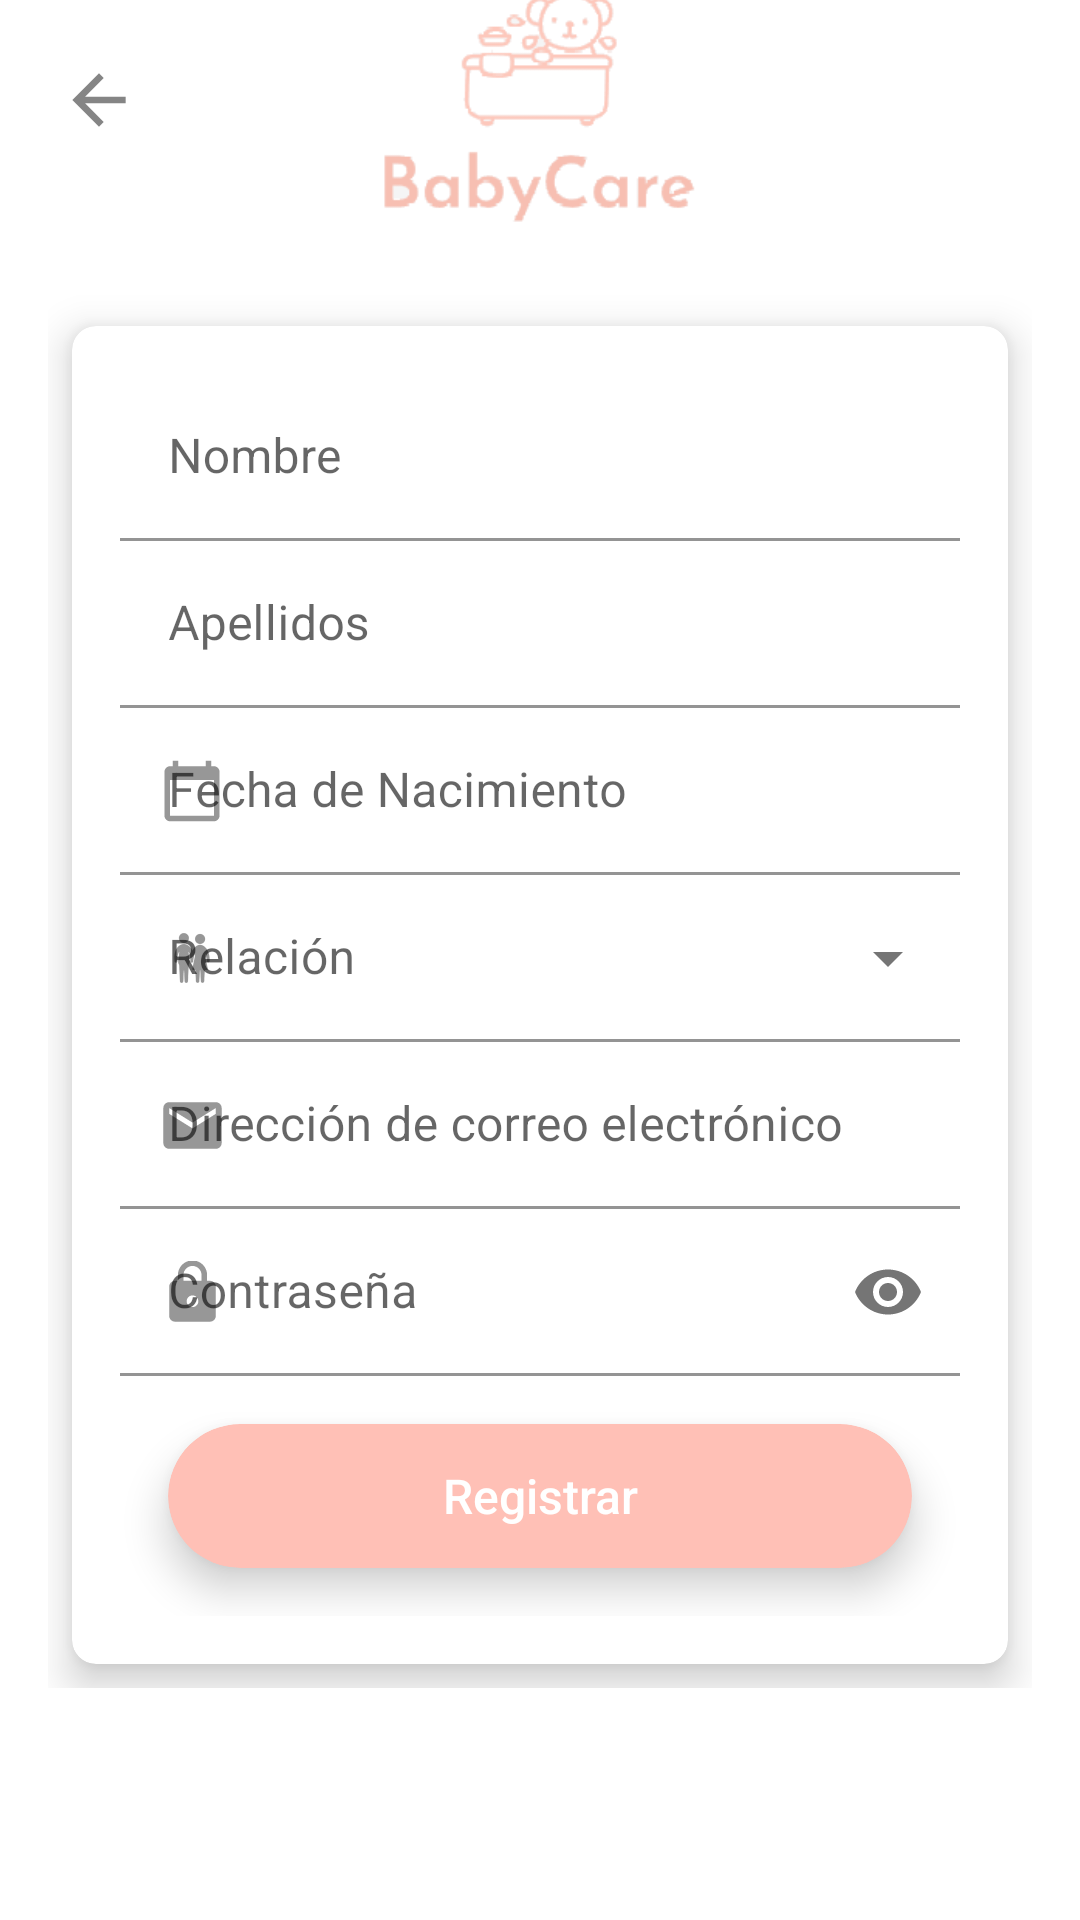

Point at icon controls on the screen. Image size 1080px×1920px, points as (x=x, y=y).
back: (x=99, y=100)
